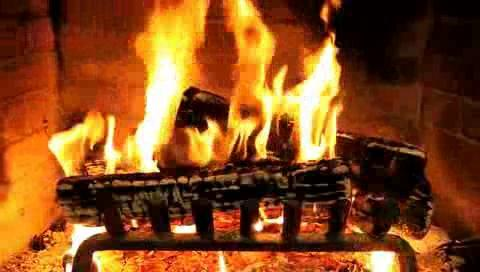fire: (122, 6, 339, 174)
